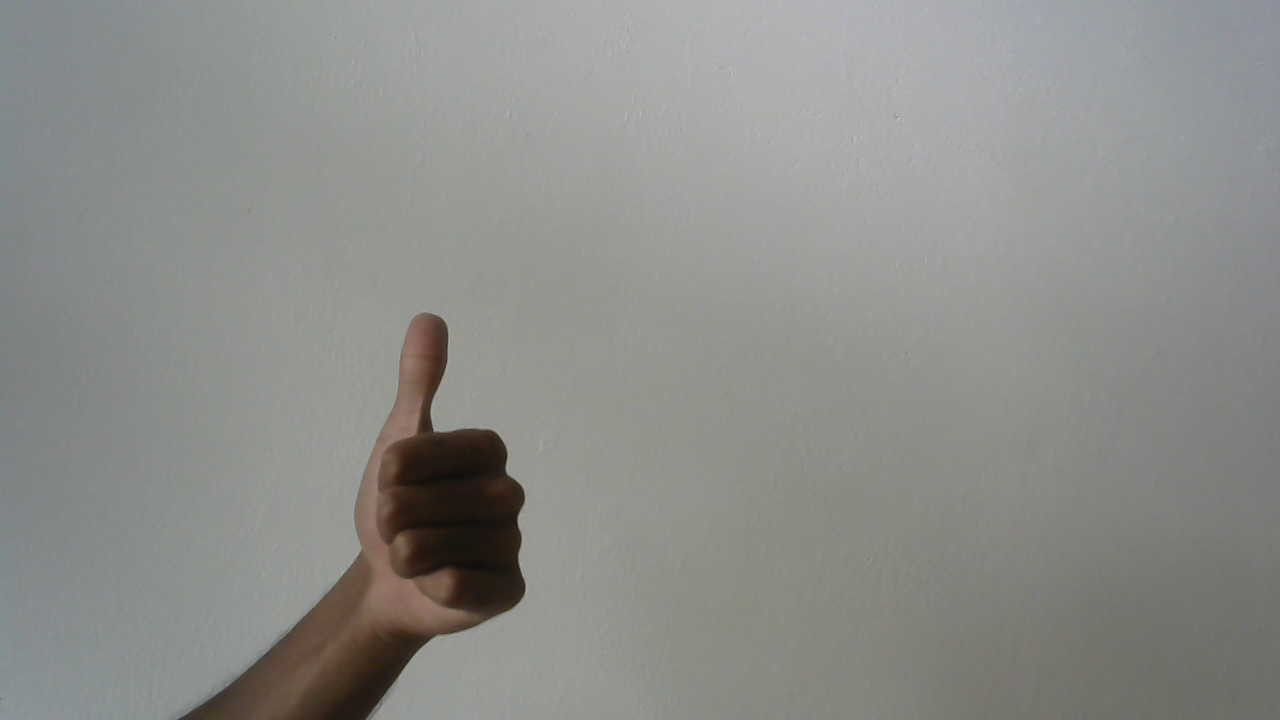thumbsup: (350, 297, 541, 657)
